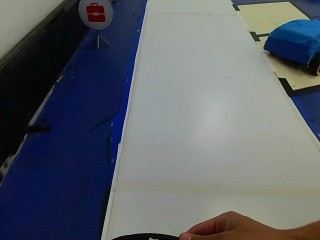company: (78, 1, 112, 32)
